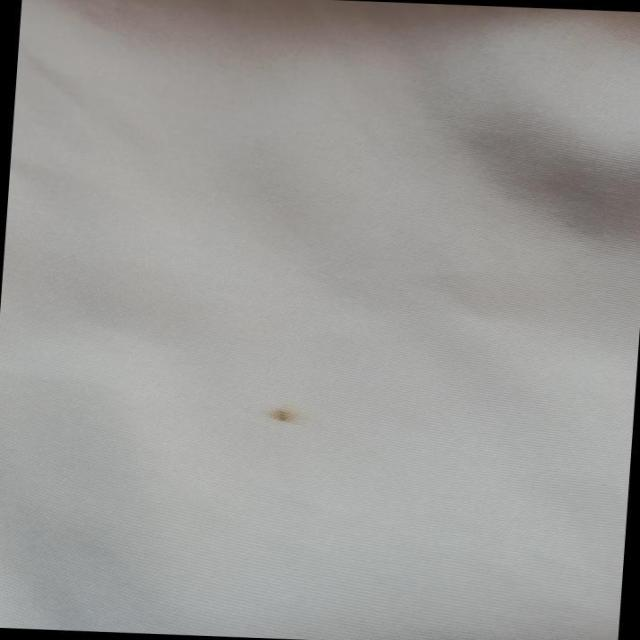stain: (251, 399, 315, 439)
